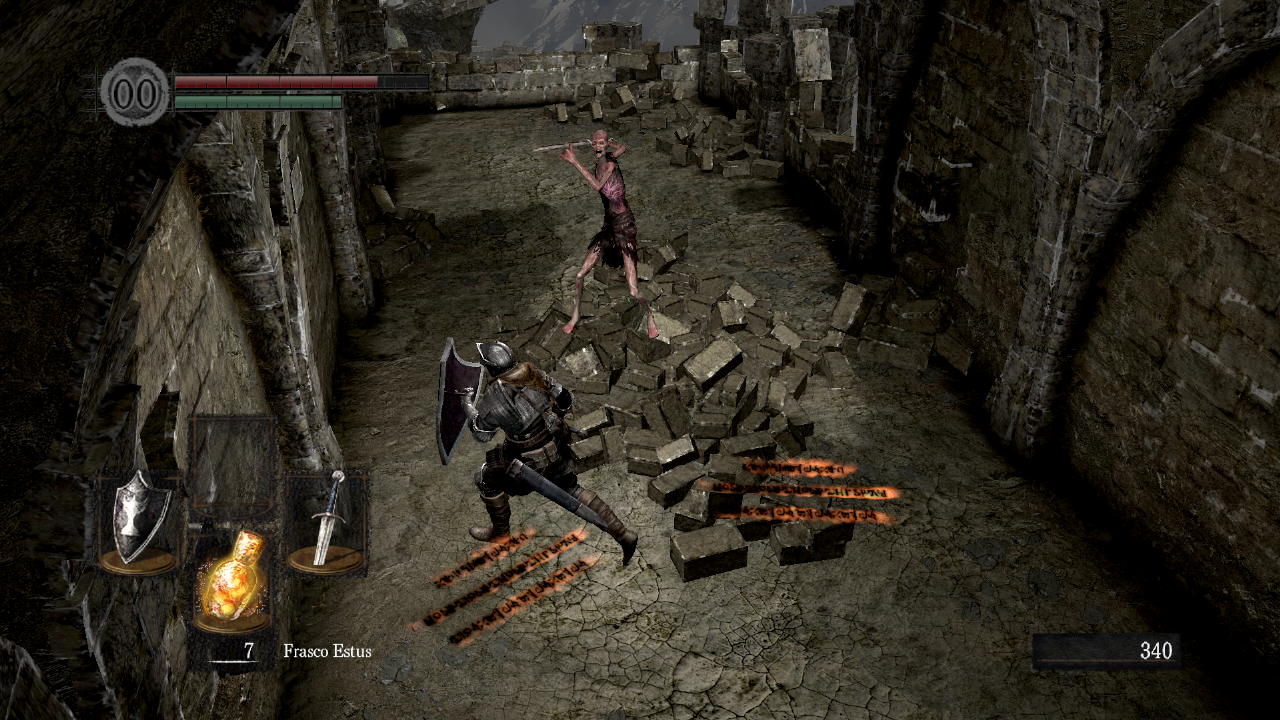hollow: (531, 129, 660, 340)
player: (435, 335, 639, 566)
